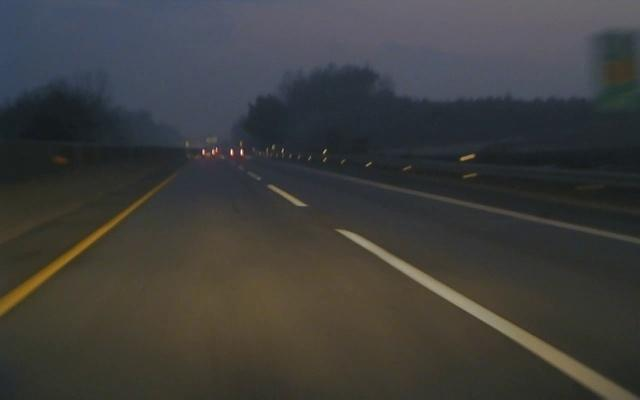lane: (241, 167, 636, 398), (3, 183, 162, 314), (387, 185, 640, 244)
